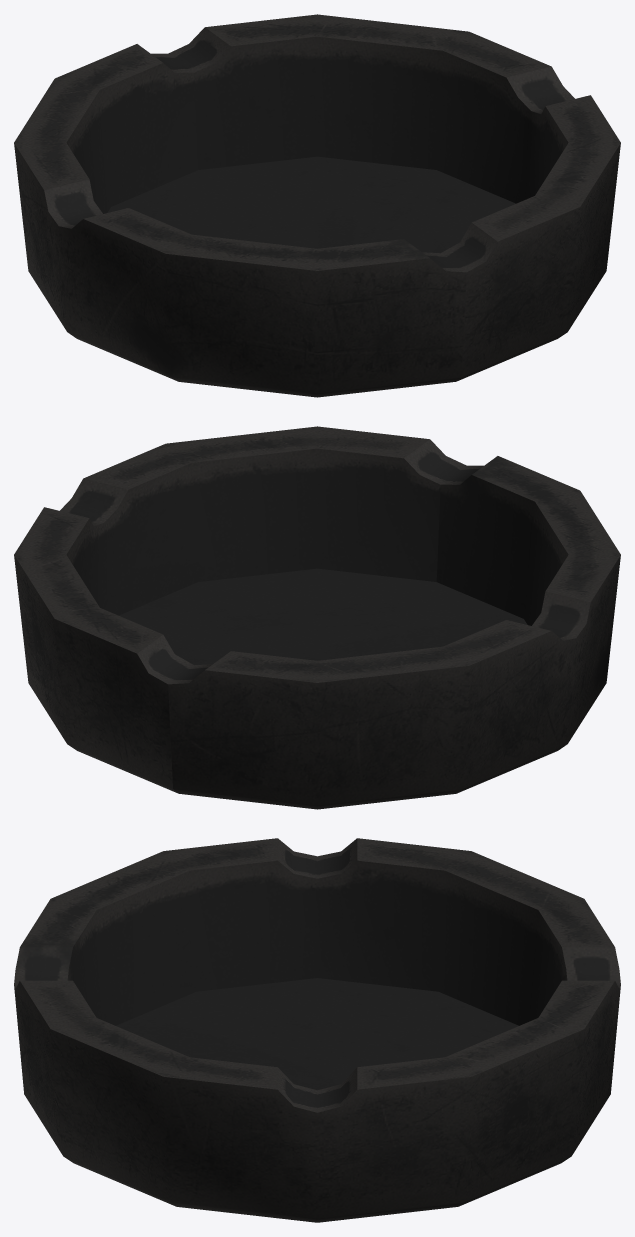
Rendered from AshtrayClean.fbx.
The picture shows the model from 3 angles, top to bottom: view 1: azimuth 30°, elevation 25°; view 2: azimuth 150°, elevation 25°; view 3: azimuth 270°, elevation 25°; orthographic projection.
Visible parts, largest first — view 1: AshtrayClean; view 2: AshtrayClean; view 3: AshtrayClean.
Part boxes in pixels (left/top/right/bottom): AshtrayClean: left=14, top=14, right=620, bottom=397; AshtrayClean: left=14, top=426, right=620, bottom=809; AshtrayClean: left=14, top=838, right=620, bottom=1222.
Bounding box in the file's own units: 11.82 × 3 × 11.82.
